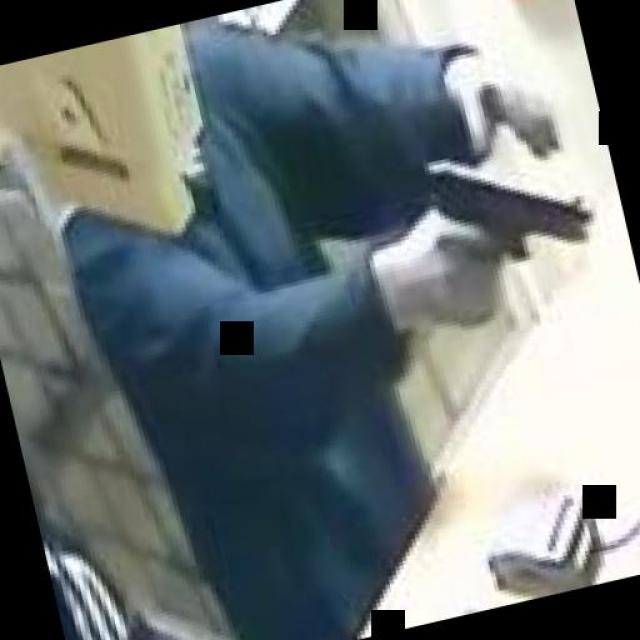gun: (402, 122, 612, 336)
